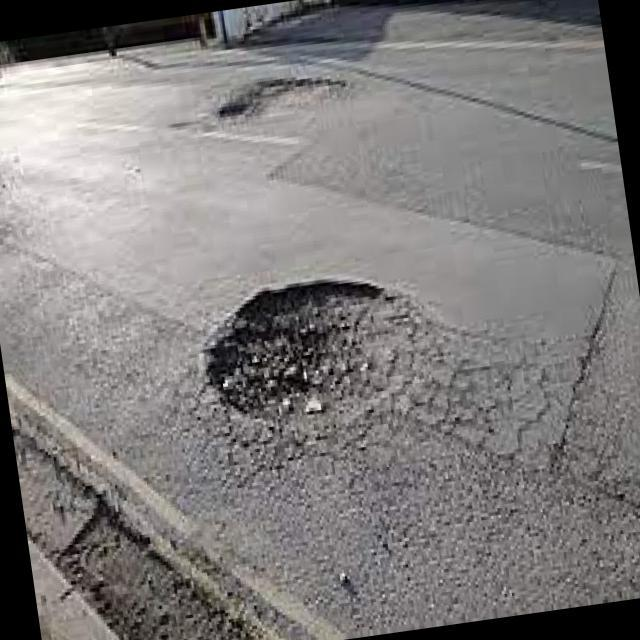Pothole: (208, 277, 391, 414)
